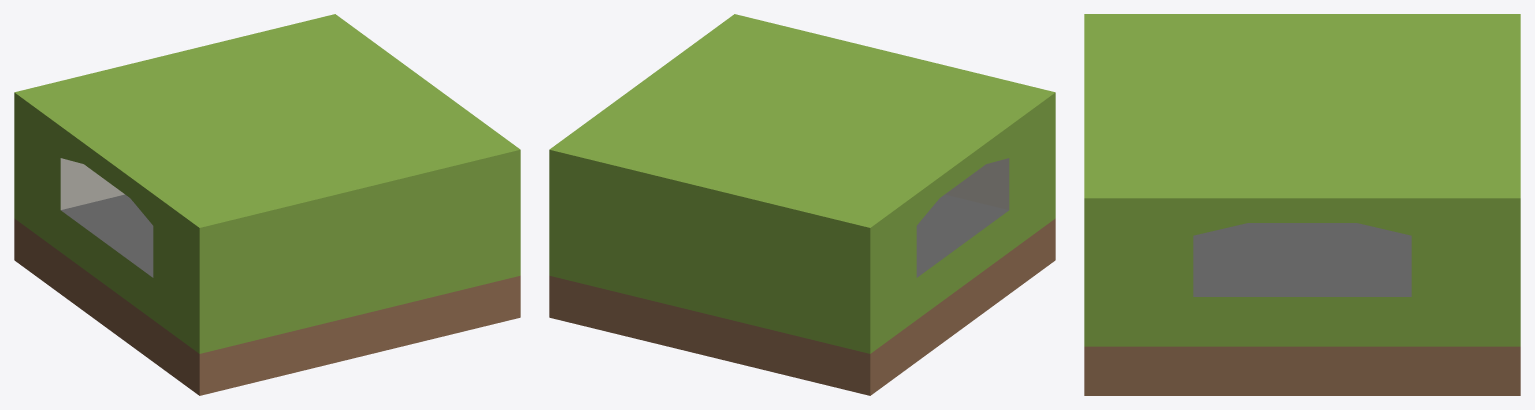
Rendered from road-tunnel-segment.obj.
3 views of the same model, side by side, from view 1: azimuth 30°, elevation 25°; view 2: azimuth 150°, elevation 25°; view 3: azimuth 270°, elevation 25° (orthographic). The views are drawn at different scales.
Parts seen in each view (by area): view 1: road-tunnel-segment_Cube.021; view 2: road-tunnel-segment_Cube.021; view 3: road-tunnel-segment_Cube.021.
Boxes of the visible parts, bbox=[...] form: road-tunnel-segment_Cube.021: bbox=[14, 14, 520, 395]; road-tunnel-segment_Cube.021: bbox=[549, 14, 1055, 395]; road-tunnel-segment_Cube.021: bbox=[1084, 14, 1520, 395].
Bounding box in the file's own units: 8 × 4 × 8.
Materials: 1 (1 with a texture image).
